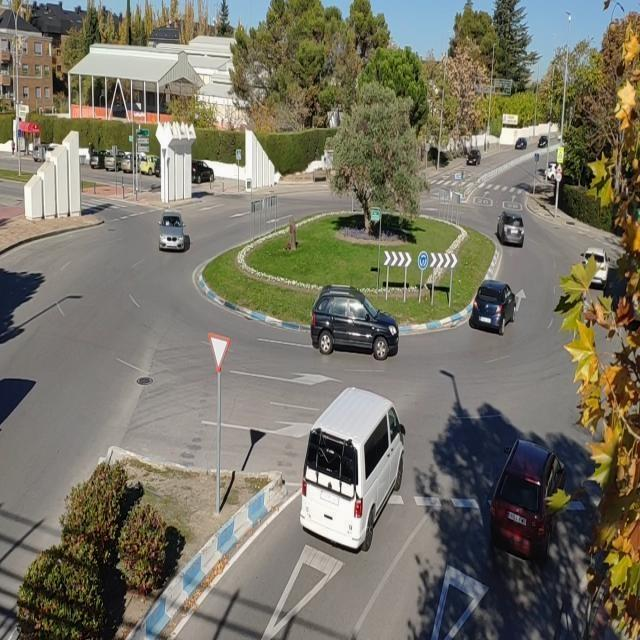Car: (476, 410, 583, 566), (299, 285, 405, 360), (146, 192, 204, 270), (470, 272, 530, 342), (488, 192, 539, 266), (574, 236, 616, 298)
Van: (276, 383, 441, 563)
